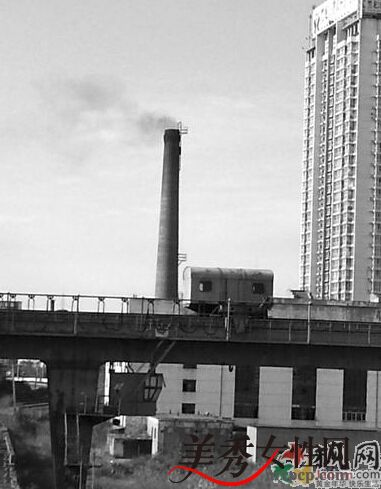dust: (77, 86, 188, 141)
